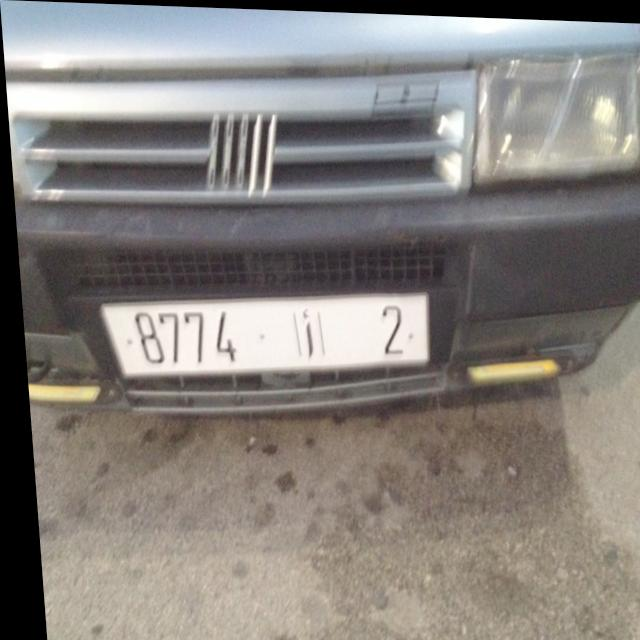License-Plate: (97, 290, 424, 378)
